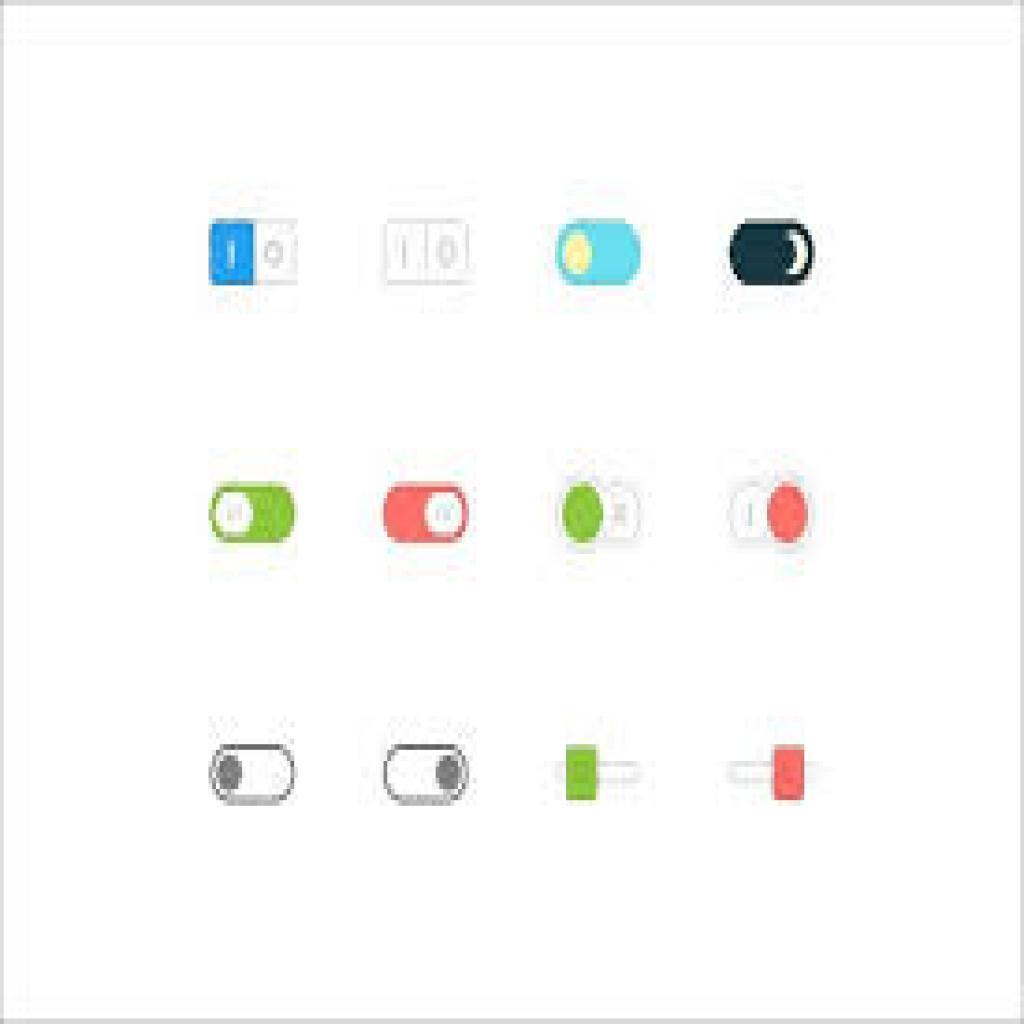switch: (730, 217, 819, 287), (382, 482, 474, 548), (727, 478, 815, 547), (558, 220, 643, 289), (208, 483, 297, 548), (561, 481, 642, 548), (384, 744, 470, 806), (212, 744, 299, 803)
